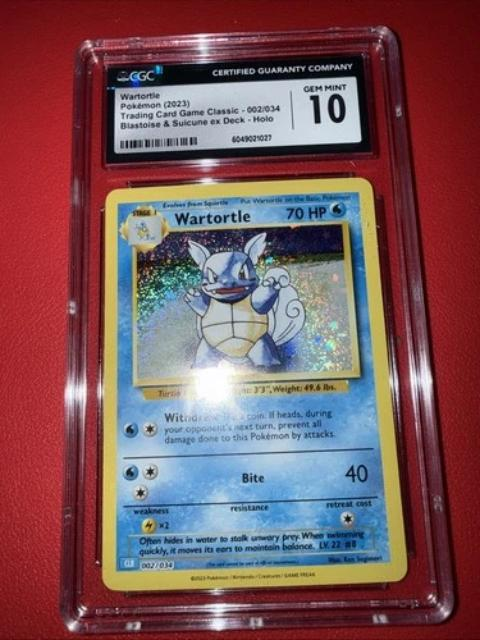Card: (93, 173, 408, 593)
Name: (168, 205, 255, 228)
